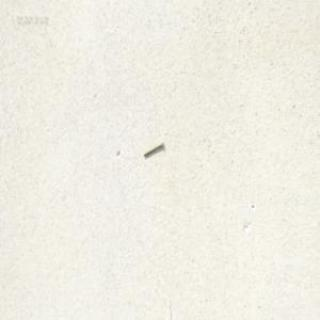Bolttrack_idkeyframe: (142, 139, 163, 157)
